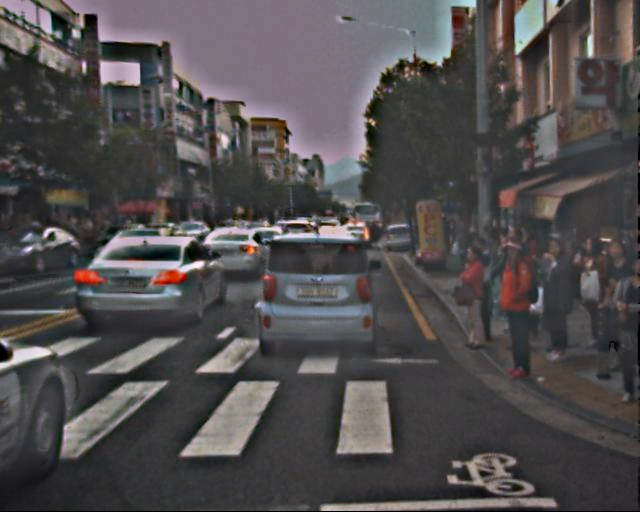person: (487, 242, 543, 379), (589, 238, 640, 369), (528, 241, 576, 359), (604, 253, 640, 404), (570, 235, 615, 344), (487, 226, 531, 334), (499, 227, 542, 331), (453, 247, 495, 349), (461, 236, 503, 338), (441, 217, 469, 253)
